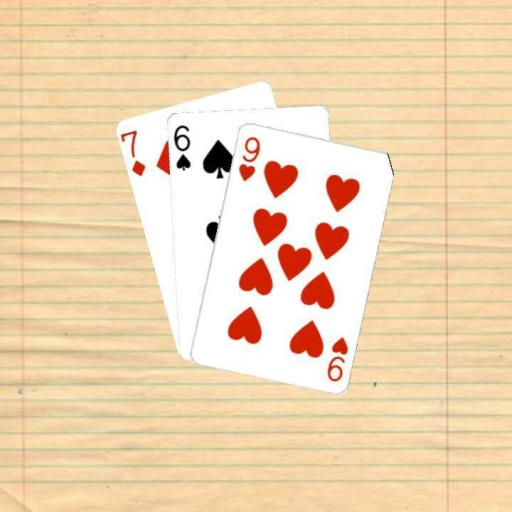card-corner: (119, 126, 146, 178), (234, 133, 262, 183), (323, 333, 350, 383), (170, 122, 191, 172)
